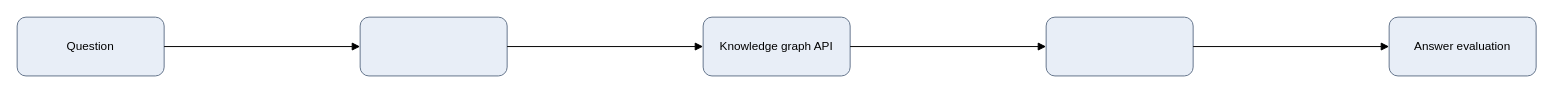
Some shapes in this 1553 by 93 pixel diagram are drawn without their labels. The shapes that lost their labels are listed below. From the top down, each one's centre as x and y in pixels, then its label:
At point 433,46: "Web search API".
At point 1119,46: "Context aggregation".
